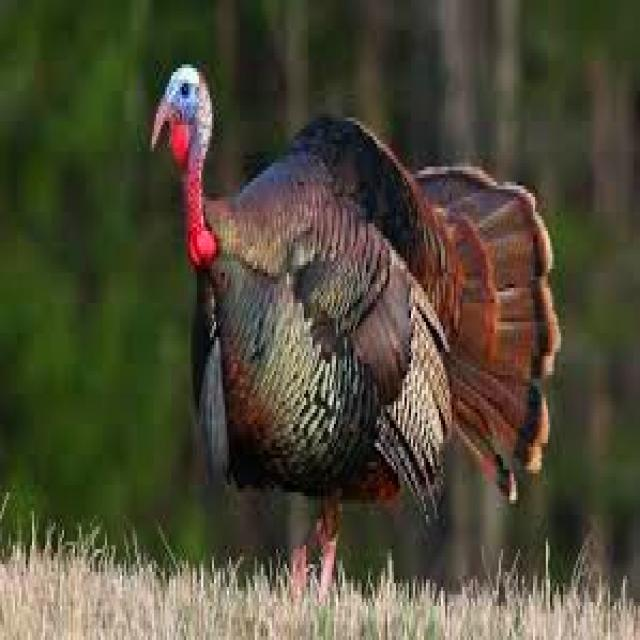turkey: (150, 64, 559, 591)
